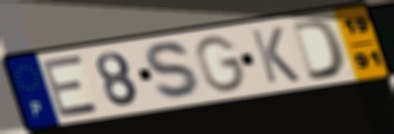8: (95, 50, 141, 108)
D: (288, 16, 349, 83)
E: (39, 53, 103, 120)
G: (193, 34, 249, 95)
K: (247, 25, 303, 86)
S: (143, 40, 207, 103)
